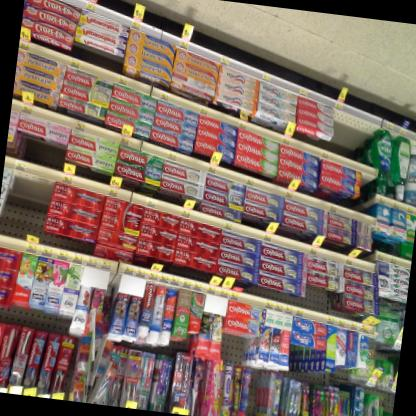empty_space: (6, 166, 56, 227), (333, 107, 376, 154), (245, 370, 259, 416)
